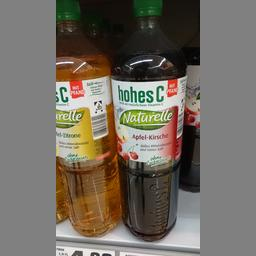juice: (111, 0, 186, 240), (56, 0, 123, 235)
